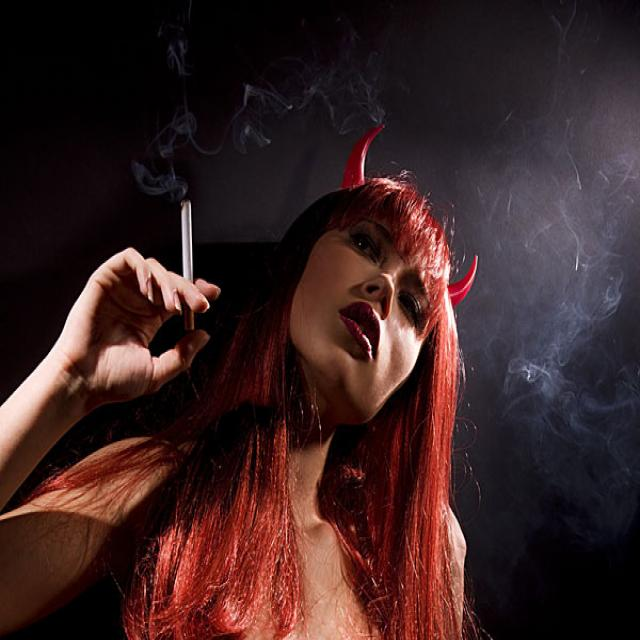smoking: (181, 196, 194, 338)
